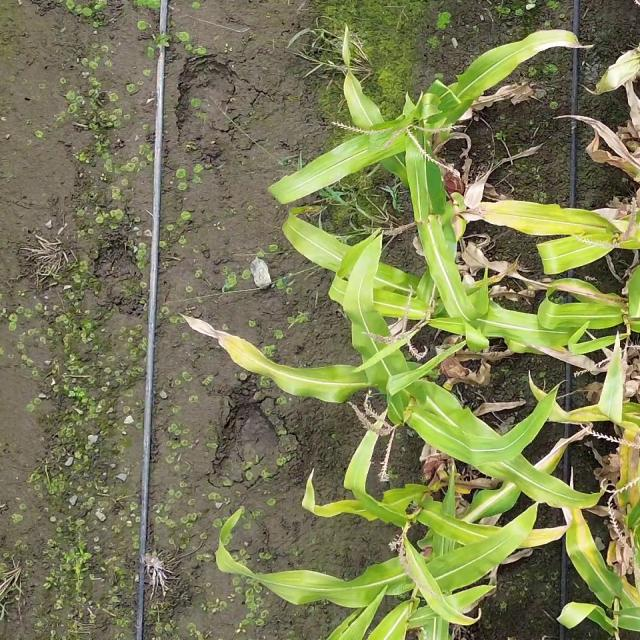northern-leaf-blight: (207, 330, 356, 408), (560, 492, 640, 627), (505, 196, 606, 242), (478, 516, 573, 558)
